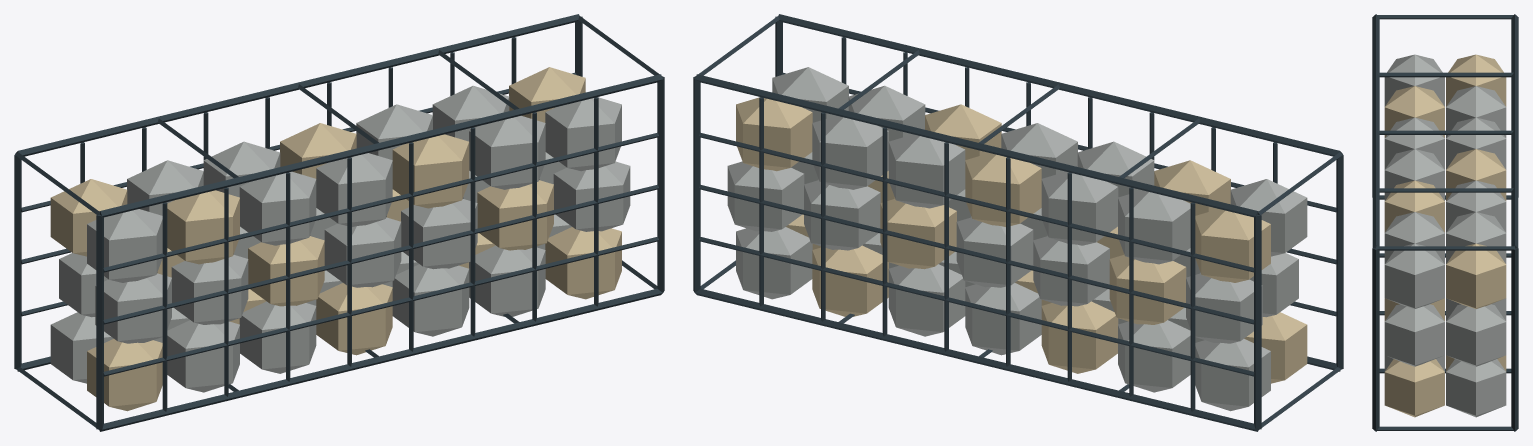
File: b19_gabion_boundary_wall.glb
3 views of the same model, side by side, from view 1: azimuth 30°, elevation 25°; view 2: azimuth 150°, elevation 25°; view 3: azimuth 270°, elevation 25° (orthographic). The views are drawn at different scales.
Parts seen in each view (by area): view 1: b19_gabion_boundary_wall; view 2: b19_gabion_boundary_wall; view 3: b19_gabion_boundary_wall.
Boxes of the visible parts, x1,y1,x2,y2 form: b19_gabion_boundary_wall: [14, 14, 664, 431]; b19_gabion_boundary_wall: [693, 14, 1343, 431]; b19_gabion_boundary_wall: [1372, 14, 1518, 431].
Bounding box in the file's own units: 2.72 × 1.05 × 0.716.
